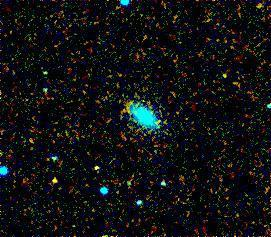star: (81, 149, 111, 179)
